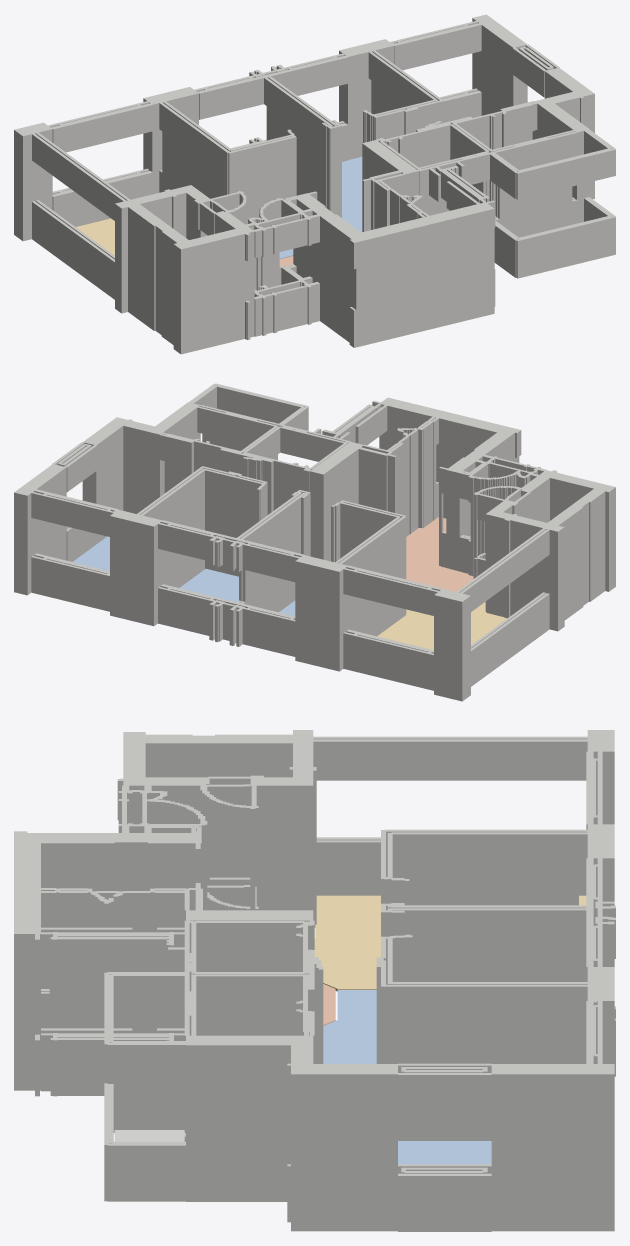
3 renders of one model, top to bottom at view 1: azimuth 30°, elevation 25°; view 2: azimuth 150°, elevation 25°; view 3: azimuth 270°, elevation 25°, orthographic. The views are drawn at different scales.
Visible parts, largest first — view 1: walls, room:bedroom:5, room:living:0; view 2: walls, room:kitchen:8, room:living:0, room:bedroom:5, room:bedroom:6; view 3: walls, room:living:0, room:bedroom:1, room:bedroom:6, room:ledge:3.
Part boxes in pixels (x1,y1,x2,y2): walls: (14, 14, 615, 354); room:bedroom:5: (342, 157, 362, 232); room:living:0: (76, 218, 114, 255); walls: (14, 383, 615, 701); room:kitchen:8: (406, 517, 473, 591); room:living:0: (377, 602, 506, 650); room:bedroom:5: (179, 569, 238, 601); room:bedroom:6: (73, 536, 109, 570); walls: (14, 730, 615, 1231); room:living:0: (314, 895, 586, 991); room:bedroom:1: (323, 990, 376, 1063); room:bedroom:6: (398, 1141, 491, 1164); room:ledge:3: (114, 1130, 184, 1141).
Bounding box in the file's own units: 13.2 × 2.8 × 9.74.
